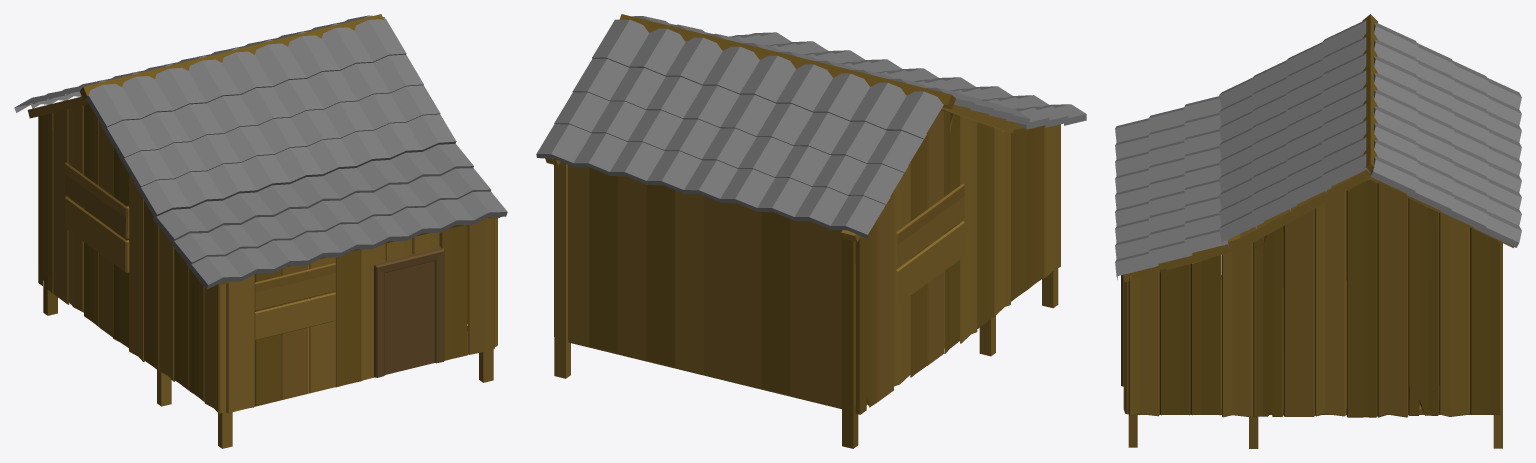
File: casinha3.fbx
3 views of the same model, side by side, from view 1: azimuth 30°, elevation 25°; view 2: azimuth 150°, elevation 25°; view 3: azimuth 270°, elevation 25° (orthographic). The views are drawn at different scales.
Parts seen in each view (by area): view 1: chao, newTelha.020, newTelha.019, newTelha.017, newTelha.018, newTelha.023, newTelha.021, newTelha.022, base, newTelha.013; view 2: parede, chao, newTelha.013, newTelha.014, newTelha.016, newTelha.015, base, newTelha.023, newTelha.022, newTelha.020, newTelha.021; view 3: chao, newTelha.013, newTelha.020, base, newTelha.014, newTelha.015, newTelha.019, newTelha.021, newTelha.022, newTelha.016, newTelha.018, newTelha.023 (+1 smaller).
Boxes of the visible parts, bbox=[...] form: chao: bbox=[38, 104, 497, 413]; newTelha.020: bbox=[86, 19, 406, 130]; newTelha.019: bbox=[101, 54, 423, 160]; newTelha.017: bbox=[134, 114, 456, 218]; newTelha.018: bbox=[118, 85, 440, 189]; newTelha.023: bbox=[186, 191, 507, 289]; newTelha.021: bbox=[152, 143, 473, 243]; newTelha.022: bbox=[170, 168, 490, 267]; base: bbox=[27, 14, 500, 448]; newTelha.013: bbox=[64, 15, 385, 99]; parede: bbox=[568, 165, 841, 407]; chao: bbox=[554, 109, 1060, 414]; newTelha.013: bbox=[592, 19, 943, 142]; newTelha.014: bbox=[572, 58, 926, 175]; newTelha.016: bbox=[536, 124, 890, 238]; newTelha.015: bbox=[554, 92, 908, 207]; base: bbox=[545, 14, 1058, 448]; newTelha.023: bbox=[749, 32, 1086, 125]; newTelha.022: bbox=[732, 34, 1068, 127]; newTelha.020: bbox=[632, 16, 974, 108]; newTelha.021: bbox=[729, 36, 1049, 129]; chao: bbox=[1121, 177, 1501, 417]; newTelha.013: bbox=[1370, 23, 1418, 196]; newTelha.020: bbox=[1322, 20, 1369, 193]; base: bbox=[1123, 14, 1513, 448]; newTelha.014: bbox=[1406, 43, 1454, 214]; newTelha.015: bbox=[1441, 61, 1488, 231]; newTelha.019: bbox=[1286, 42, 1330, 211]; newTelha.021: bbox=[1184, 96, 1229, 258]; newTelha.022: bbox=[1149, 107, 1192, 270]; newTelha.016: bbox=[1474, 78, 1521, 247]; newTelha.018: bbox=[1252, 60, 1296, 229]; newTelha.023: bbox=[1115, 118, 1158, 279].
Size of the model in its own units: 720 by 637 by 812.
